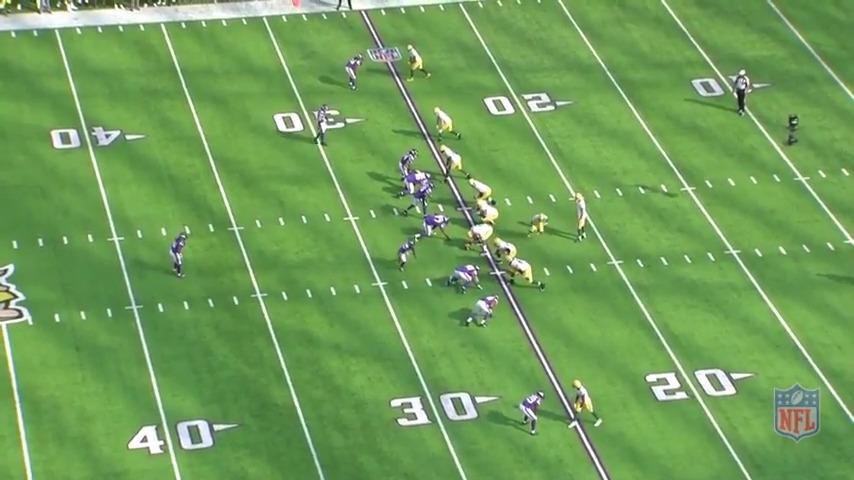defense: (168, 228, 192, 282), (464, 293, 501, 328), (519, 388, 544, 438), (406, 175, 435, 216), (413, 212, 451, 242), (448, 263, 483, 294), (400, 147, 420, 192), (399, 170, 427, 202), (398, 236, 420, 275), (313, 103, 331, 150), (347, 52, 367, 94)
oline: (507, 255, 543, 291), (464, 224, 494, 258), (469, 176, 493, 209), (494, 238, 520, 267), (475, 198, 499, 226)
qb: (572, 191, 591, 245)
ref: (731, 68, 755, 119)
skill: (567, 375, 604, 432), (439, 143, 473, 183), (405, 40, 435, 85), (430, 105, 463, 143), (524, 211, 554, 241)
